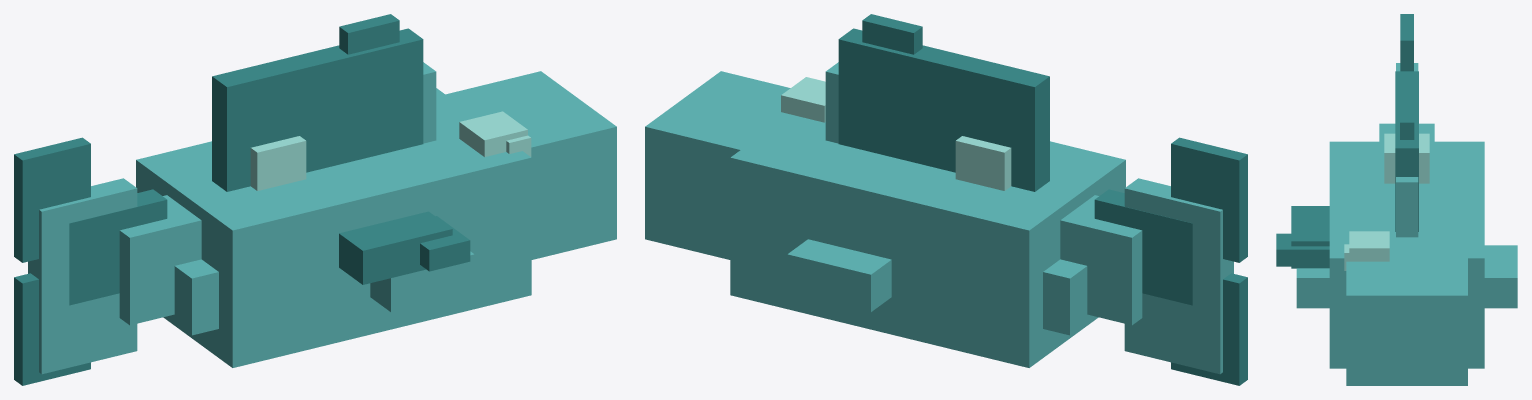
File: fish_aurora_jack.glb
3 views of the same model, side by side, from view 1: azimuth 30°, elevation 25°; view 2: azimuth 150°, elevation 25°; view 3: azimuth 270°, elevation 25° (orthographic). The views are drawn at different scales.
Visible parts, largest first — view 1: FishArt_body, FishArt_dorsal, FishArt_tail, FishArt_pectoral, FishArt_specialty, FishArt_eye; view 2: FishArt_body, FishArt_dorsal, FishArt_tail, FishArt_specialty, FishArt_eye; view 3: FishArt_body, FishArt_pectoral, FishArt_dorsal, FishArt_eye, FishArt_specialty, FishArt_tail.
Boxes of the visible parts, bbox=[...] form: FishArt_body: bbox=[28, 62, 616, 374]; FishArt_dorsal: bbox=[212, 14, 423, 191]; FishArt_tail: bbox=[14, 137, 167, 385]; FishArt_pectoral: bbox=[339, 211, 470, 284]; FishArt_specialty: bbox=[250, 136, 306, 190]; FishArt_eye: bbox=[459, 111, 531, 156]; FishArt_body: bbox=[645, 62, 1233, 374]; FishArt_dorsal: bbox=[838, 14, 1049, 191]; FishArt_tail: bbox=[1094, 137, 1247, 385]; FishArt_specialty: bbox=[955, 136, 1011, 190]; FishArt_eye: bbox=[781, 77, 825, 122]; FishArt_body: bbox=[1296, 63, 1517, 385]; FishArt_pectoral: bbox=[1276, 206, 1329, 268]; FishArt_dorsal: bbox=[1395, 71, 1418, 231]; FishArt_eye: bbox=[1344, 231, 1389, 270]; FishArt_specialty: bbox=[1384, 133, 1429, 183]; FishArt_tail: bbox=[1400, 14, 1413, 71].
Size of the model in its own units: 0.3091 by 0.1442 by 0.1439.
